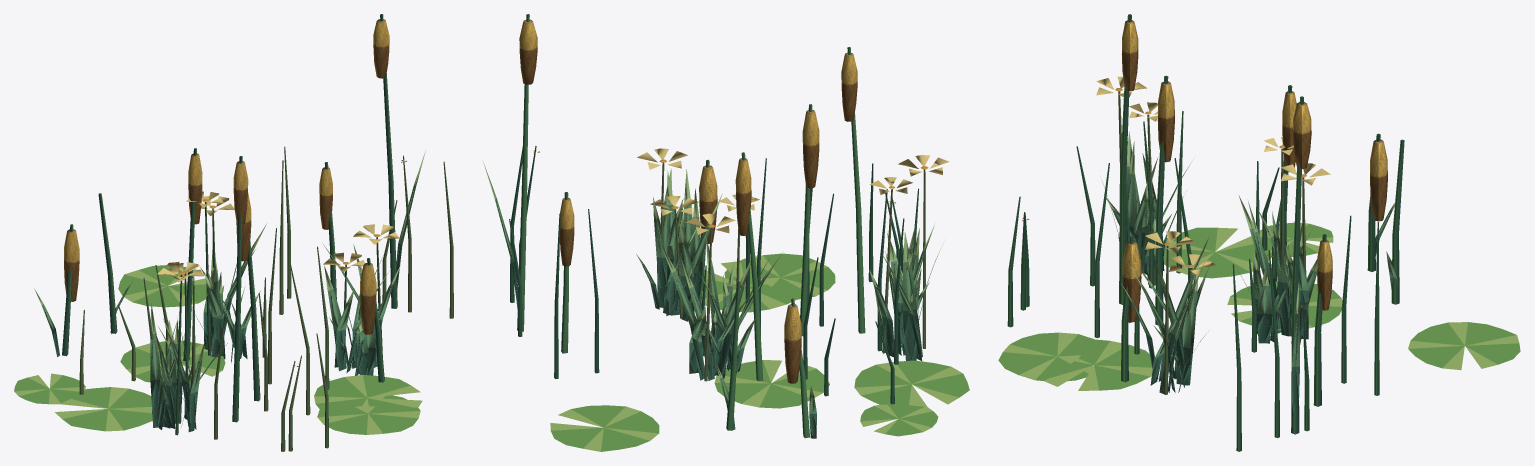
The model's file is Wetland_13_Orilla_Mixta_LOD1.glb.
3 renders of one model, left to right at view 1: azimuth 30°, elevation 25°; view 2: azimuth 150°, elevation 25°; view 3: azimuth 270°, elevation 25°, orthographic. The views are drawn at different scales.
Visible parts, largest first — view 1: Wetland_13_Orilla_Mixta_LOD1; view 2: Wetland_13_Orilla_Mixta_LOD1; view 3: Wetland_13_Orilla_Mixta_LOD1.
Part boxes in pixels (<box>): Wetland_13_Orilla_Mixta_LOD1: <box>14,14,453,451</box>; Wetland_13_Orilla_Mixta_LOD1: <box>483,14,969,451</box>; Wetland_13_Orilla_Mixta_LOD1: <box>998,14,1520,451</box>.
Bounding box in the file's own units: 3.13 × 2.14 × 3.06.
Materials: 2 (1 with a texture image).
